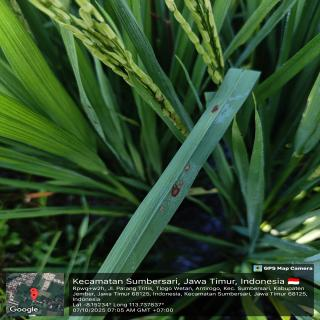Blast: (170, 180, 186, 201), (184, 163, 191, 174), (160, 206, 166, 214)
